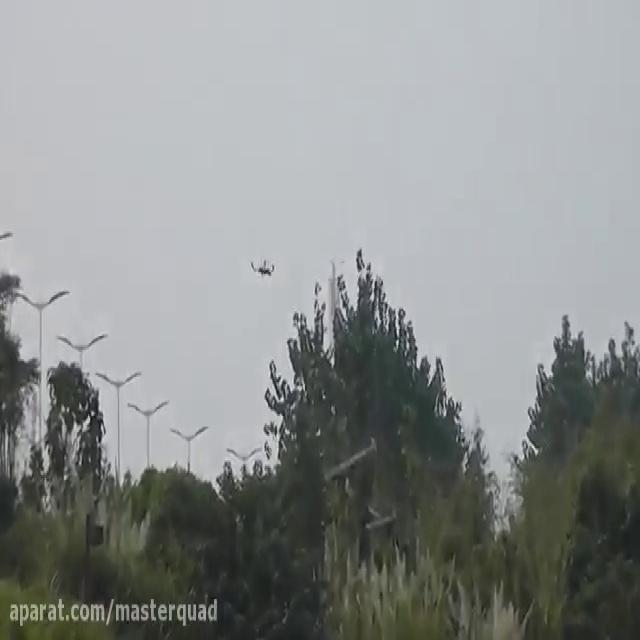drone: (249, 247, 275, 281)
